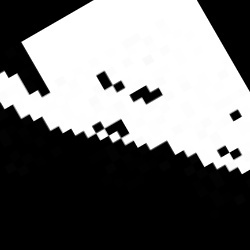spot: (1, 3, 248, 174)
